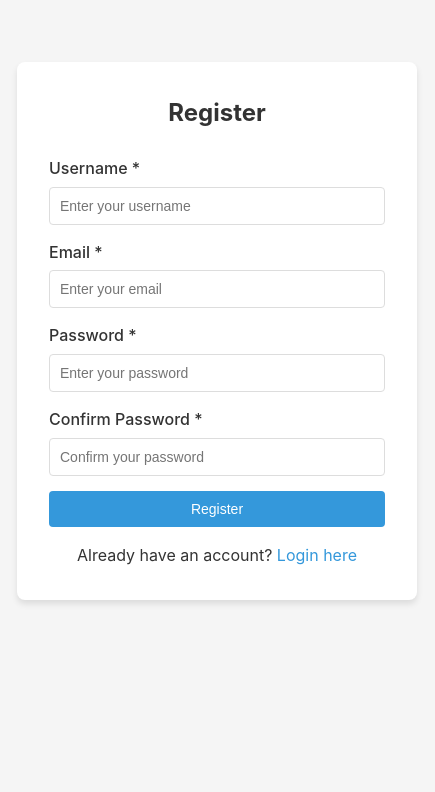
Register Component › validates password length
Type "12345" into the password field labelled "Password *". click: (217, 373)
box: [49,354,385,392]
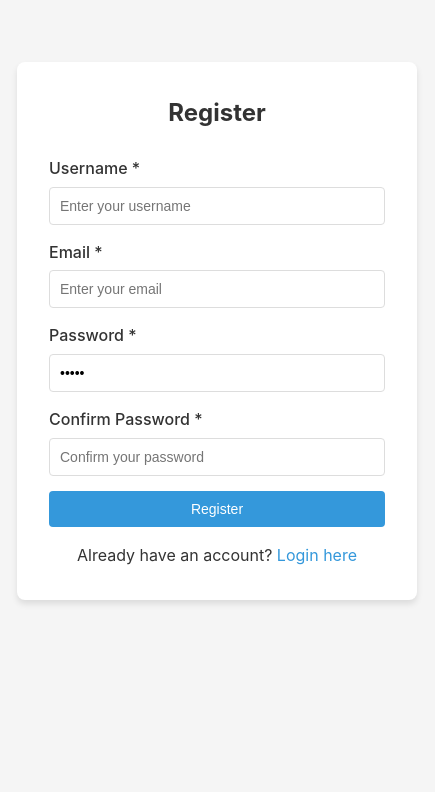
Click the button "Register". click: (217, 509)
box: [49,491,385,527]
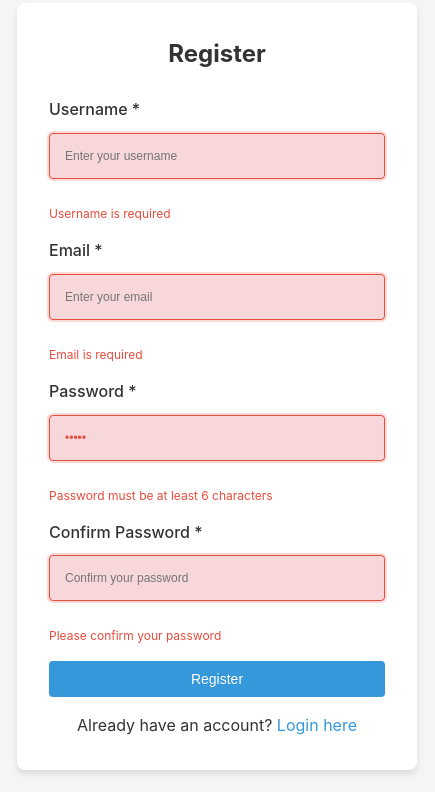
Check: the text "Password must be at least 6 characters" is shown, box [49,488,273,502]
